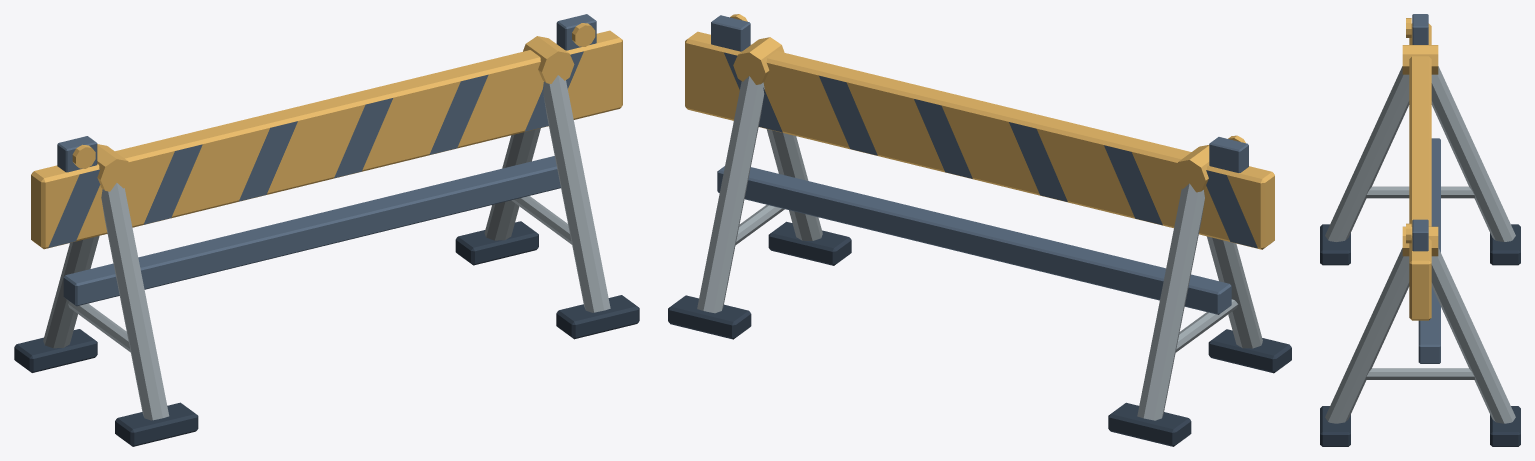
The model's file is road_barrier.glb.
The picture shows the model from 3 angles, left to right: view 1: azimuth 30°, elevation 25°; view 2: azimuth 150°, elevation 25°; view 3: azimuth 270°, elevation 25°; orthographic projection. The views are drawn at different scales.
Visible parts, largest first — view 1: barrier_warning_board, barrier_lower_cross_rail, barrier_splayed_leg, barrier_splayed_leg.002, barrier_splayed_leg.001, barrier_ground_shoe, barrier_ground_shoe.002, barrier_ground_shoe.003, barrier_ground_shoe.001, barrier_splayed_leg.003, barrier_diagonal_warning_stripe.003, barrier_diagonal_warning_stripe.004 (+10 smaller); view 2: barrier_warning_board, barrier_lower_cross_rail, barrier_splayed_leg.001, barrier_splayed_leg.003, barrier_splayed_leg, barrier_ground_shoe.001, barrier_ground_shoe.003, barrier_ground_shoe, barrier_ground_shoe.002, barrier_splayed_leg.002, barrier_diagonal_warning_stripe.008, barrier_diagonal_warning_stripe.009 (+10 smaller); view 3: barrier_warning_board, barrier_splayed_leg, barrier_splayed_leg.001, barrier_splayed_leg.002, barrier_splayed_leg.003, barrier_lower_cross_rail, barrier_transverse_brace.001, barrier_transverse_brace, barrier_ground_shoe, barrier_ground_shoe.001, barrier_ground_shoe.002, barrier_ground_shoe.003 (+4 smaller).
Boxes of the visible parts, <box> form: barrier_warning_board: <box>31,30,622,249</box>; barrier_lower_cross_rail: <box>63,156,560,306</box>; barrier_splayed_leg: <box>101,183,169,420</box>; barrier_splayed_leg.002: <box>543,75,610,312</box>; barrier_splayed_leg.001: <box>43,236,99,348</box>; barrier_ground_shoe: <box>115,402,198,446</box>; barrier_ground_shoe.002: <box>556,295,639,339</box>; barrier_ground_shoe.003: <box>455,221,538,265</box>; barrier_ground_shoe.001: <box>14,329,97,372</box>; barrier_splayed_leg.003: <box>484,128,540,240</box>; barrier_diagonal_warning_stripe.003: <box>334,98,392,178</box>; barrier_diagonal_warning_stripe.004: <box>429,74,488,154</box>; barrier_warning_board: <box>685,31,1274,249</box>; barrier_lower_cross_rail: <box>717,166,1231,314</box>; barrier_splayed_leg.001: <box>1137,183,1204,420</box>; barrier_splayed_leg.003: <box>697,76,764,313</box>; barrier_splayed_leg: <box>1207,236,1262,348</box>; barrier_ground_shoe.001: <box>1108,402,1191,446</box>; barrier_ground_shoe.003: <box>668,295,751,339</box>; barrier_ground_shoe: <box>1208,329,1291,373</box>; barrier_ground_shoe.002: <box>768,221,851,265</box>; barrier_splayed_leg.002: <box>766,129,822,240</box>; barrier_diagonal_warning_stripe.008: <box>1009,122,1067,201</box>; barrier_diagonal_warning_stripe.009: <box>914,99,972,178</box>; barrier_warning_board: <box>1409,23,1431,320</box>; barrier_splayed_leg: <box>1325,66,1409,241</box>; barrier_splayed_leg.001: <box>1431,66,1515,241</box>; barrier_splayed_leg.002: <box>1325,248,1409,423</box>; barrier_splayed_leg.003: <box>1431,248,1515,423</box>; barrier_lower_cross_rail: <box>1418,138,1440,363</box>; barrier_transverse_brace.001: <box>1365,368,1475,379</box>; barrier_transverse_brace: <box>1365,186,1475,198</box>; barrier_ground_shoe: <box>1320,224,1350,265</box>; barrier_ground_shoe.001: <box>1490,224,1520,265</box>; barrier_ground_shoe.002: <box>1320,406,1350,446</box>; barrier_ground_shoe.003: <box>1490,406,1520,446</box>.
Size of the model in its own units: 2.4 by 1.04 by 0.85.
